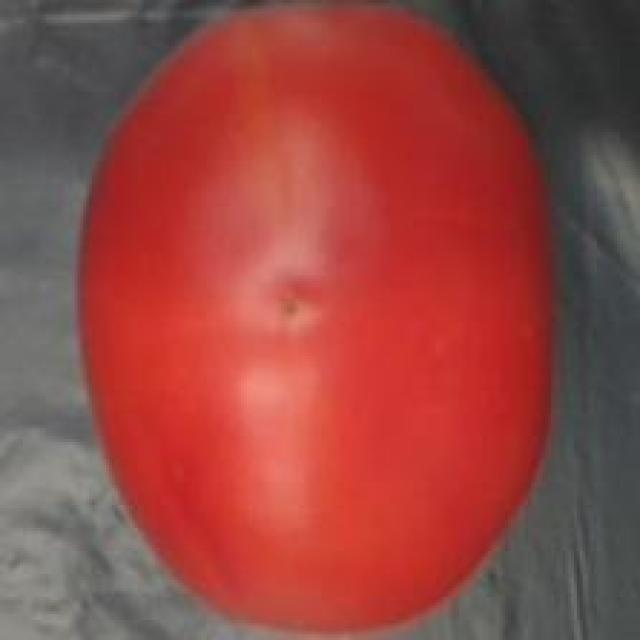ripe tomato: (69, 0, 562, 640)
